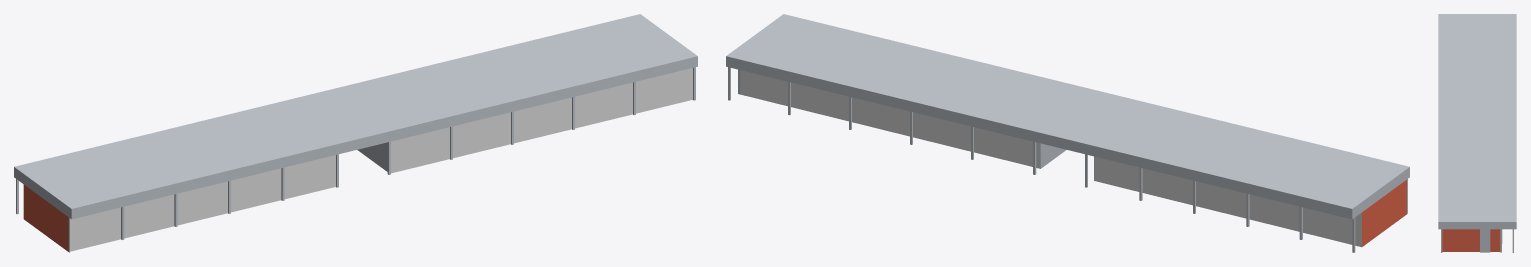
File: labs1_eixo3.glb
3 renders of one model, left to right at view 1: azimuth 30°, elevation 25°; view 2: azimuth 150°, elevation 25°; view 3: azimuth 270°, elevation 25°, orthographic. The views are drawn at different scales.
Parts seen in each view (by area): view 1: Laboratórios 1 - Eixo 3; view 2: Laboratórios 1 - Eixo 3; view 3: Laboratórios 1 - Eixo 3.
Part boxes in pixels (x1=…): Laboratórios 1 - Eixo 3: x1=14, y1=14, x2=697, y2=252; Laboratórios 1 - Eixo 3: x1=726, y1=14, x2=1409, y2=252; Laboratórios 1 - Eixo 3: x1=1438, y1=14, x2=1516, y2=252.
Bounding box in the file's own units: 93.81 × 6.5 × 14.95.
